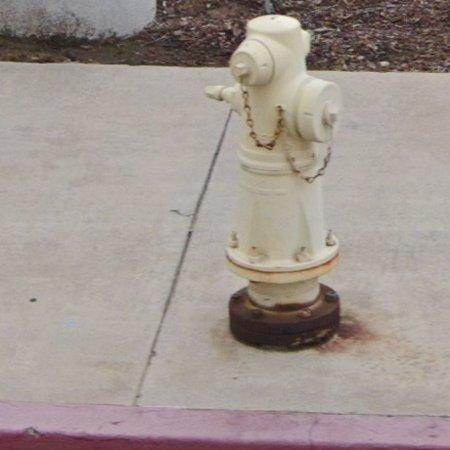a fire hydrant: (206, 15, 342, 351)
